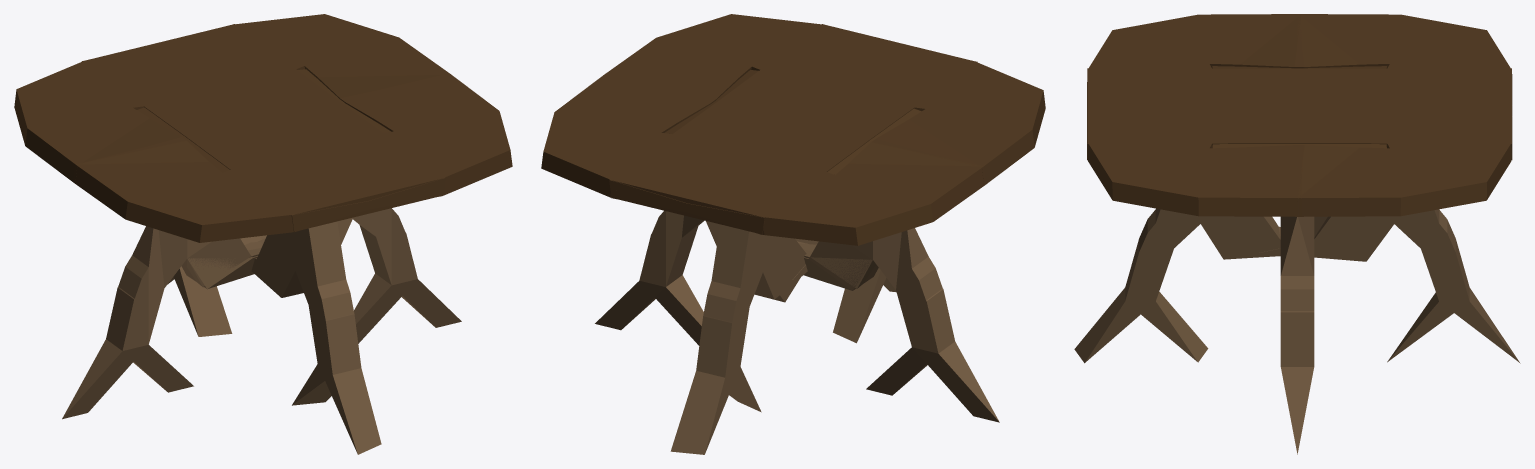
The model's file is table.fbx.
3 renders of one model, left to right at view 1: azimuth 30°, elevation 25°; view 2: azimuth 150°, elevation 25°; view 3: azimuth 270°, elevation 25°, orthographic.
Visible parts, largest first — view 1: Plan.004, Plan.001; view 2: Plan.004, Plan.001; view 3: Plan.004, Plan.001.
Part boxes in pixels (x1,y1,x2,y2): Plan.004: (14,14,512,242); Plan.001: (62,208,461,454); Plan.004: (541,14,1045,245); Plan.001: (595,210,999,454); Plan.004: (1087,14,1512,216); Plan.001: (1074,208,1520,454).
Bounding box in the file's own units: 541 × 322 × 518.
